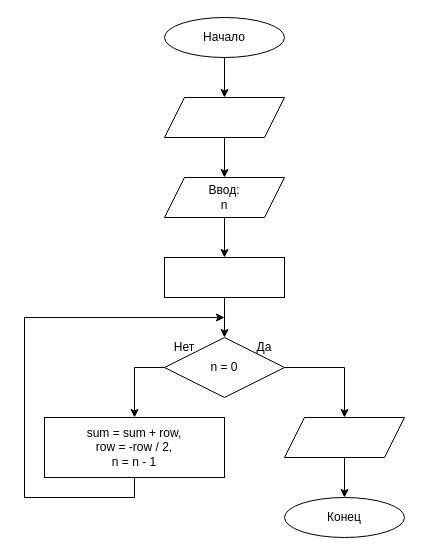
Some shapes in this 422 by 555 pixel diagram are drawn without their labels. Here are the shapes that lost their labels. From the top down, the centre of each, then its label:
the point at 224,117: Вывод: введи число
the point at 224,277: sum = 0, row =1
the point at 344,437: Вывод: sum
